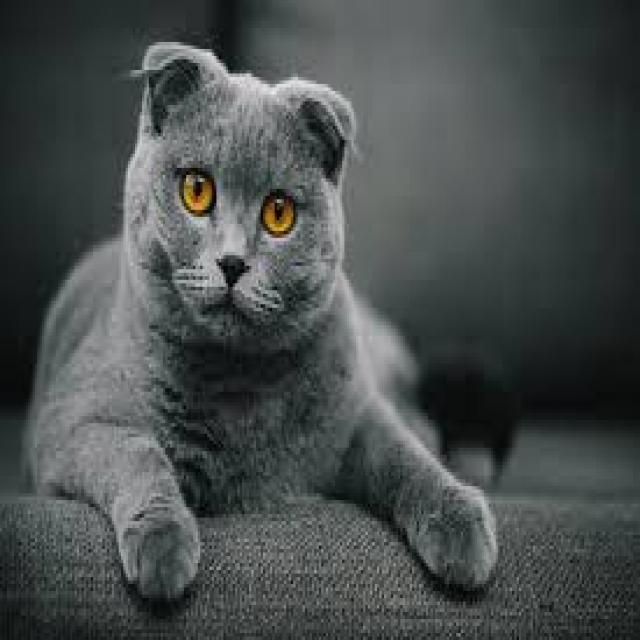Cat: (24, 34, 504, 606)
